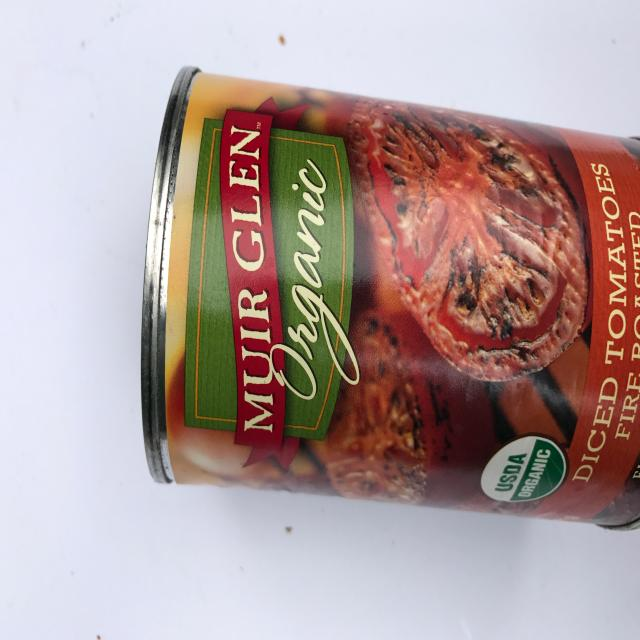metal: (139, 63, 640, 528)
